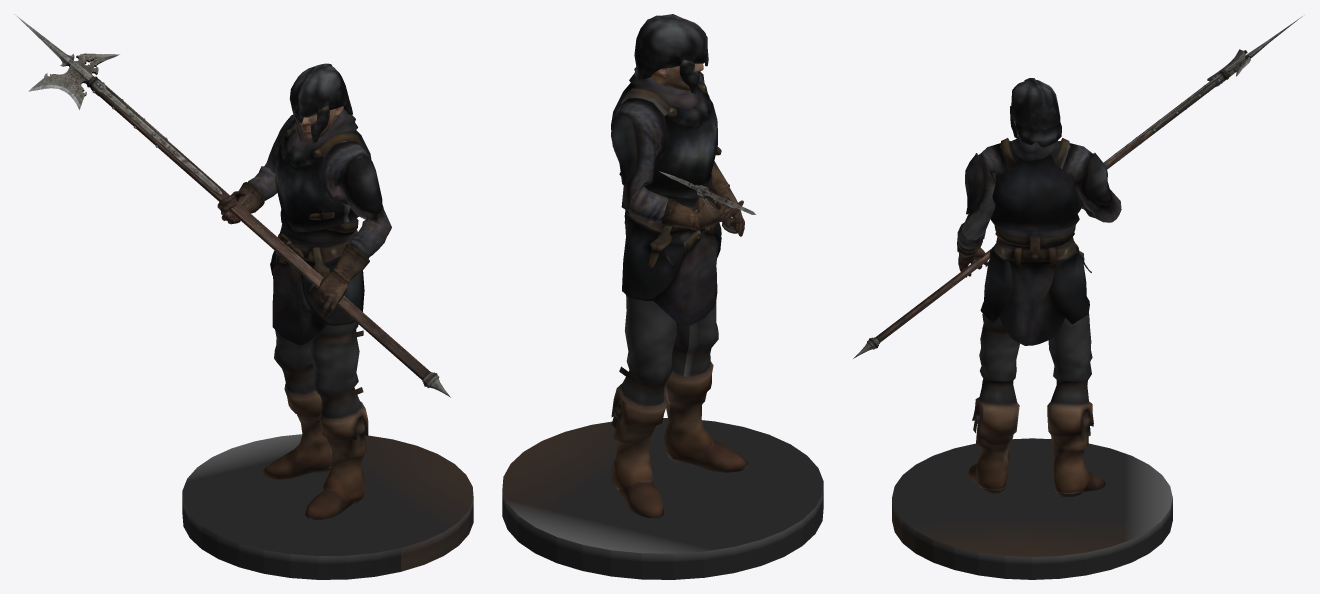
3 views of the same model, side by side, from view 1: azimuth 30°, elevation 25°; view 2: azimuth 150°, elevation 25°; view 3: azimuth 270°, elevation 25° (orthographic). The views are drawn at different scales.
Visible parts, largest first — view 1: headgroup_gatekeeper_medhelm.smd; view 2: headgroup_gatekeeper_medhelm.smd; view 3: headgroup_gatekeeper_medhelm.smd.
Part boxes in pixels (<box>): headgroup_gatekeeper_medhelm.smd: <box>14,14,473,579</box>; headgroup_gatekeeper_medhelm.smd: <box>502,14,823,579</box>; headgroup_gatekeeper_medhelm.smd: <box>853,16,1302,579</box>.
Bounding box in the file's own units: 1.26 × 1.72 × 1.61.
Materials: 1 (1 with a texture image).
